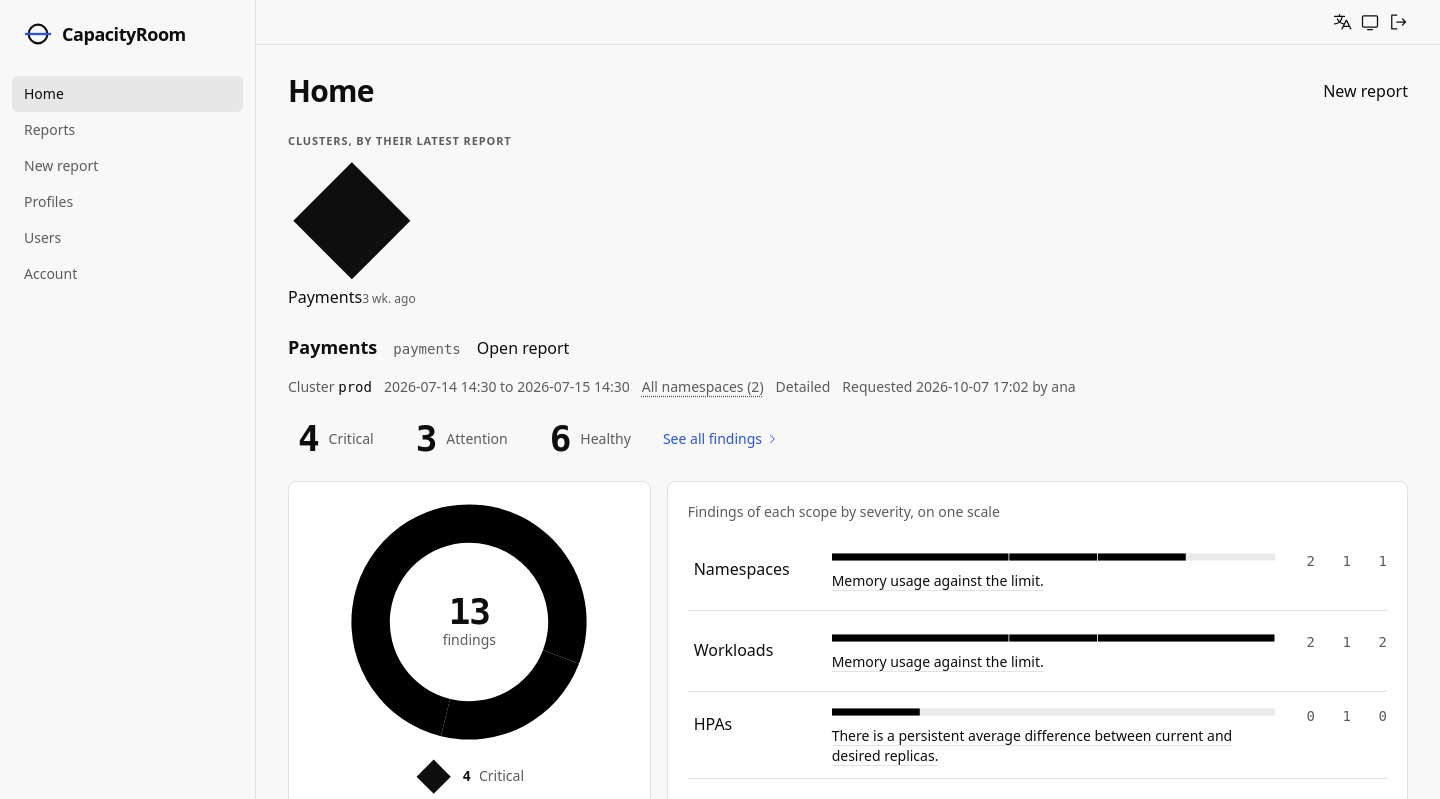
Test: home page › says all namespaces with their count, and lists them in a popover
Check: the heading "Home" is shown, box [288,73,374,109]
Click the button "All namespaces (2)": coordinates (703, 387) [642,377,764,397]
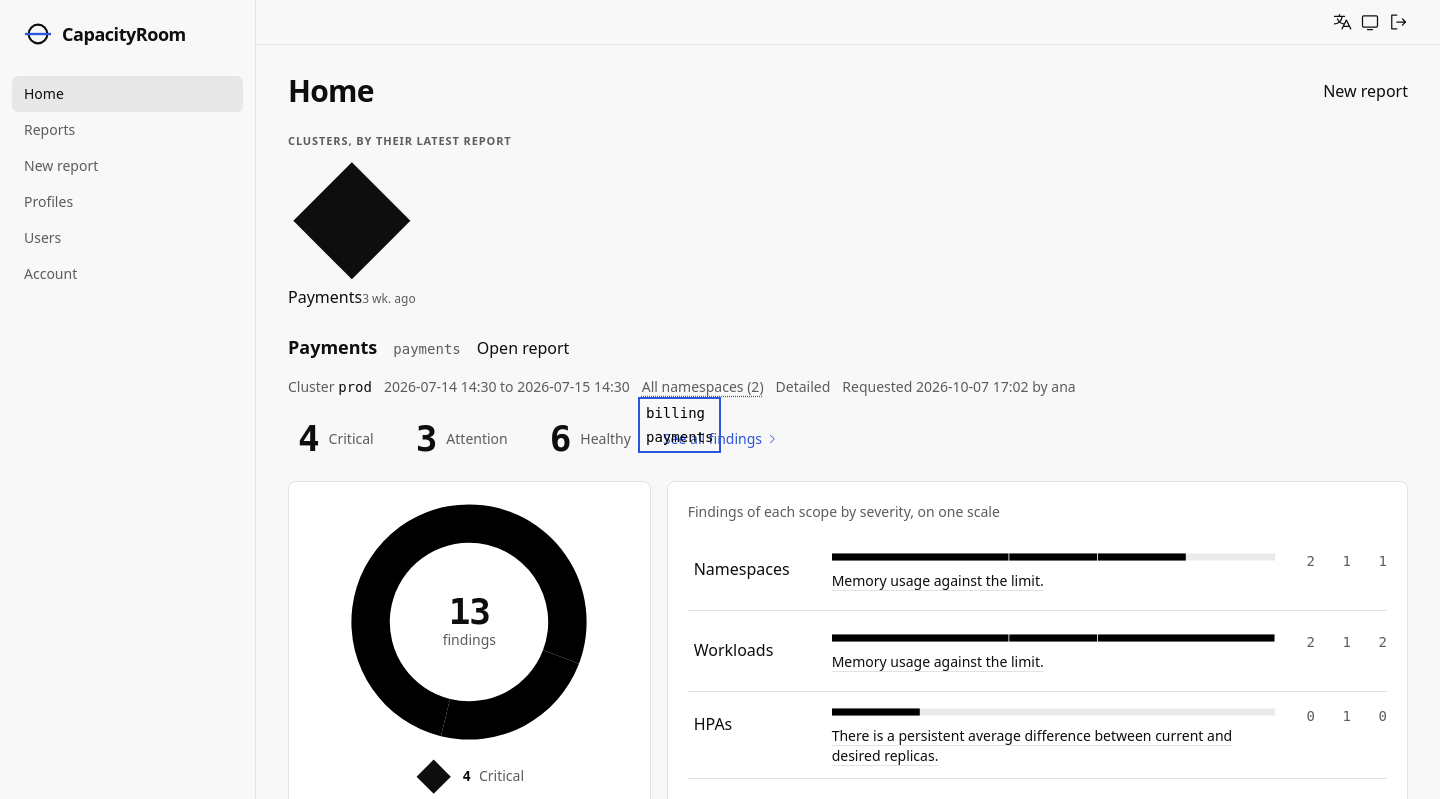
Check: the list items read "billing", "payments", in this order, box [646,401,713,425]; [646,425,713,449]
